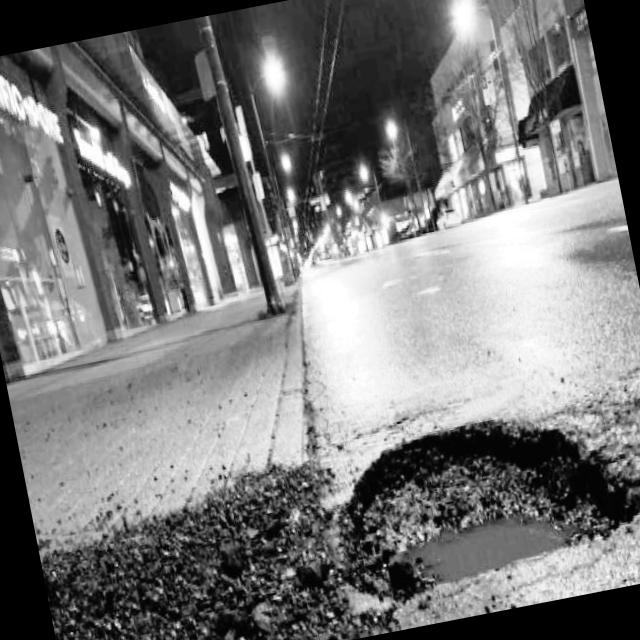Pothole: (322, 366, 640, 611)
